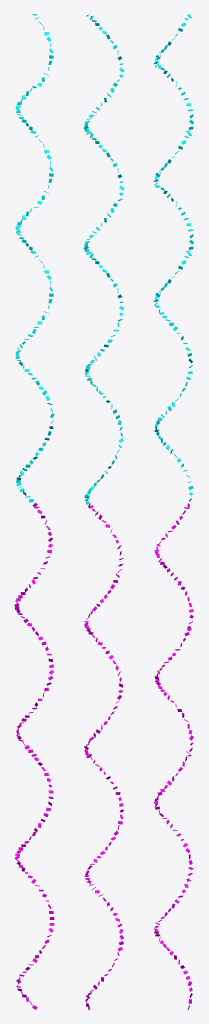
The model's file is viralspiral.dae.
3 views of the same model, side by side, from view 1: azimuth 90°, elevation 25°; view 2: azimuth 150°, elevation 25°; view 3: azimuth 330°, elevation 25° (orthographic).
Bounding box in the file's own units: 16.88 × 16.81 × 456.
